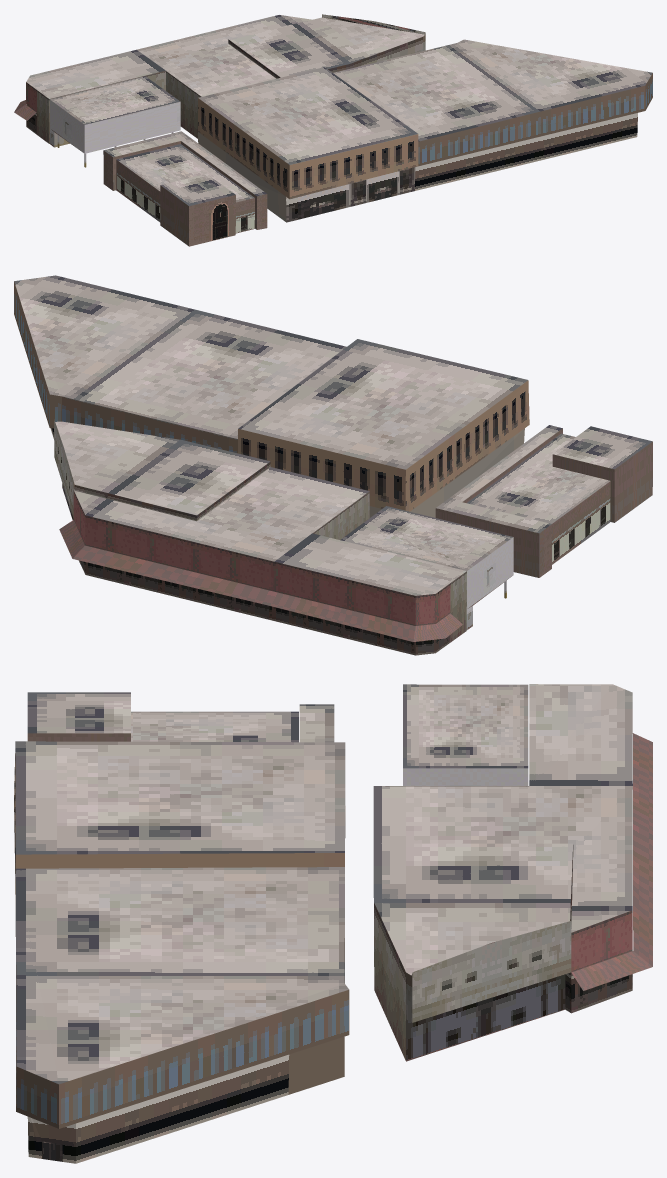
File: loddwntwnshop2.obj
3 views of the same model, one above another, from view 1: azimuth 30°, elevation 25°; view 2: azimuth 150°, elevation 25°; view 3: azimuth 270°, elevation 25° (orthographic). The views are drawn at different scales.
Parts seen in each view (by area): view 1: loddwntwnshop2; view 2: loddwntwnshop2; view 3: loddwntwnshop2.
Part boxes in pixels (x1=…): loddwntwnshop2: x1=14, y1=14, x2=652, y2=246; loddwntwnshop2: x1=14, y1=275, x2=652, y2=655; loddwntwnshop2: x1=14, y1=684, x2=652, y2=1163.
Size of the model in its own units: 99.43 by 12 by 63.69.
11 materials, 11 textured.
